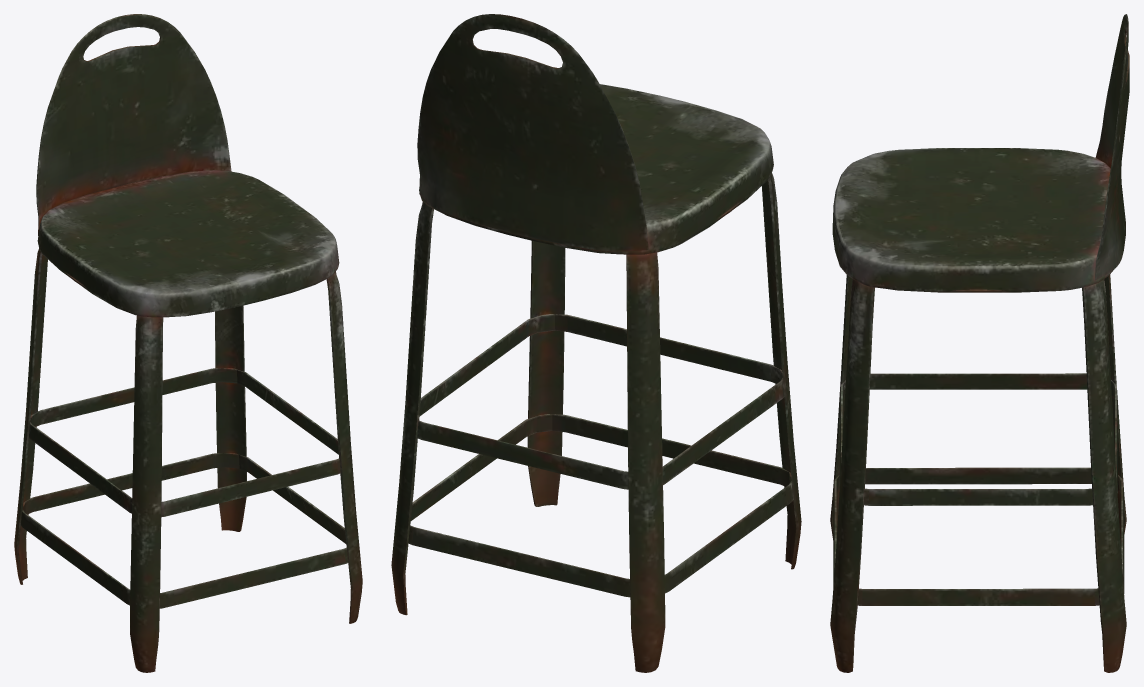
File: metal_stool_03.glb
3 renders of one model, left to right at view 1: azimuth 30°, elevation 25°; view 2: azimuth 150°, elevation 25°; view 3: azimuth 270°, elevation 25°, orthographic. The views are drawn at different scales.
Parts seen in each view (by area): view 1: metal_stool_03; view 2: metal_stool_03; view 3: metal_stool_03.
Boxes of the visible parts, box(x1,y1,x2,y2) form: metal_stool_03: box(14, 14, 362, 672); metal_stool_03: box(391, 14, 801, 672); metal_stool_03: box(830, 14, 1129, 672).
Size of the model in its own units: 0.4606 by 1.02 by 0.47.
Materials: 1 (1 with a texture image).
